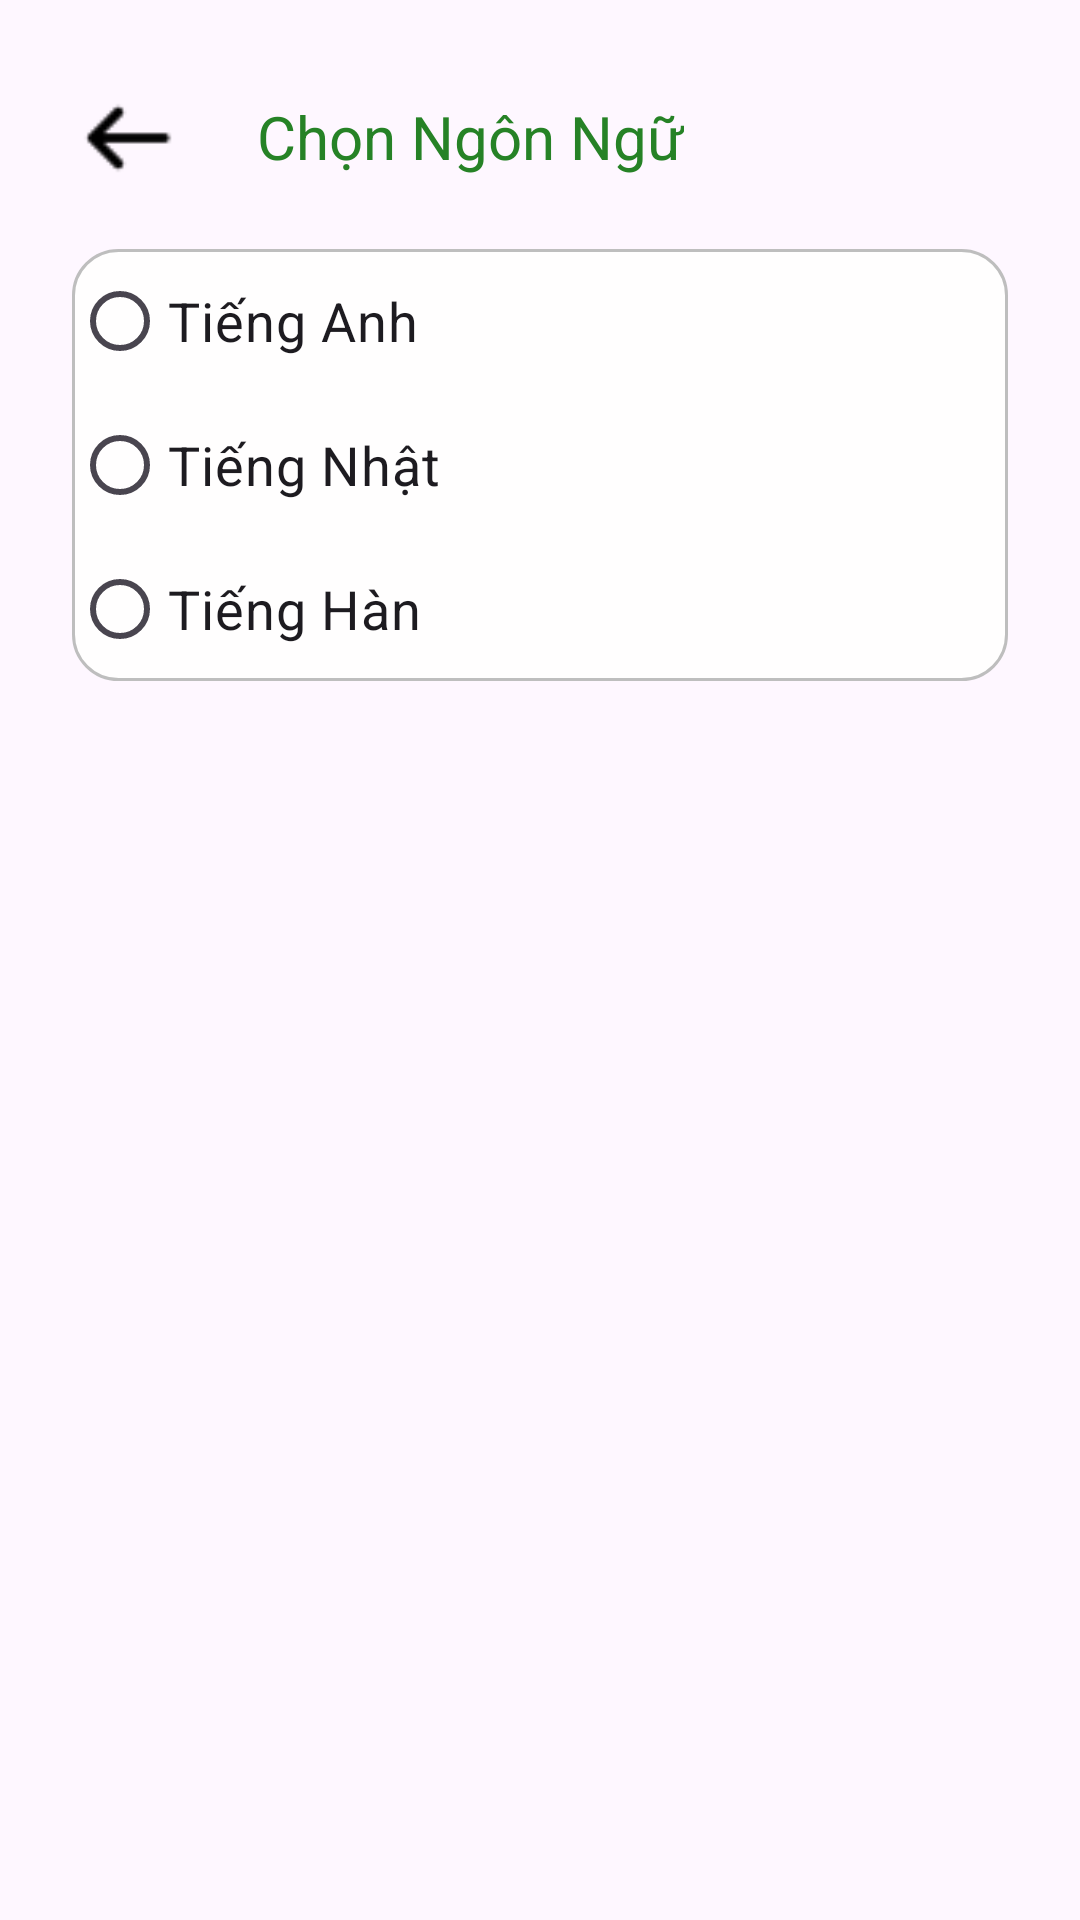

Icons on this 1080x1920 Android screen, each with the point to tap as (x,y):
arrow back: (128,138)
